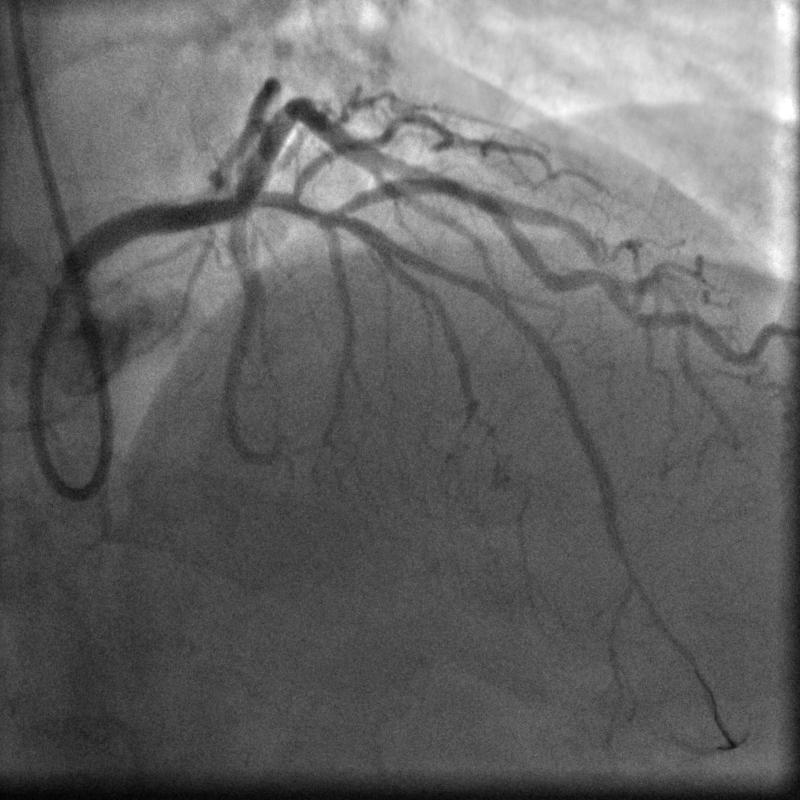Stenosis: (446, 171, 486, 214)
